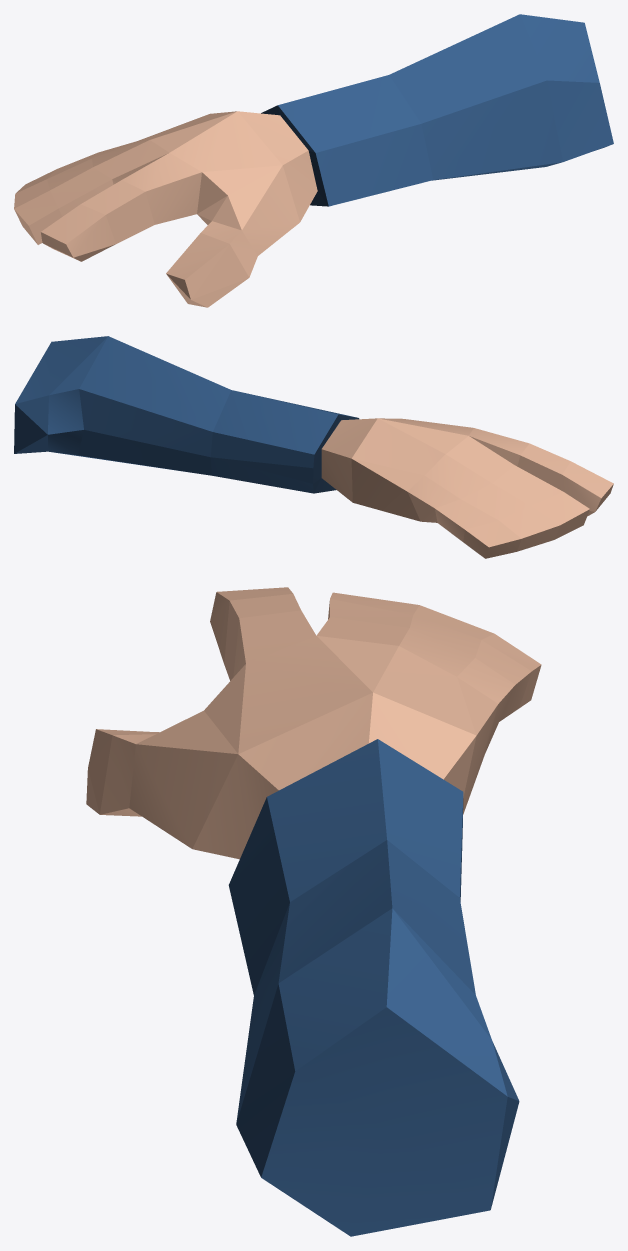
File: Hand_R_Cop.glb
3 views of the same model, one above another, from view 1: azimuth 30°, elevation 25°; view 2: azimuth 150°, elevation 25°; view 3: azimuth 270°, elevation 25° (orthographic). The views are drawn at different scales.
Visible parts, largest first — view 1: Hand_R_Cop; view 2: Hand_R_Cop; view 3: Hand_R_Cop.
Boxes of the visible parts, x1,y1,x2,y2 form: Hand_R_Cop: [14, 14, 613, 307]; Hand_R_Cop: [14, 336, 613, 558]; Hand_R_Cop: [86, 587, 541, 1236].
Size of the model in its own units: 0.5118 by 0.1235 by 0.188.
Materials: 1 (1 with a texture image).
